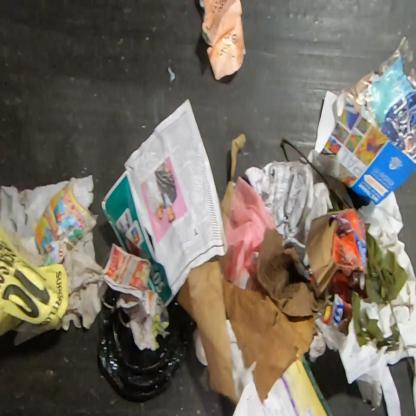cardboard: (251, 227, 334, 318), (320, 209, 369, 338), (305, 208, 353, 300)
rigid_plastic: (96, 284, 196, 404)
soft_plastic: (243, 150, 355, 268)
